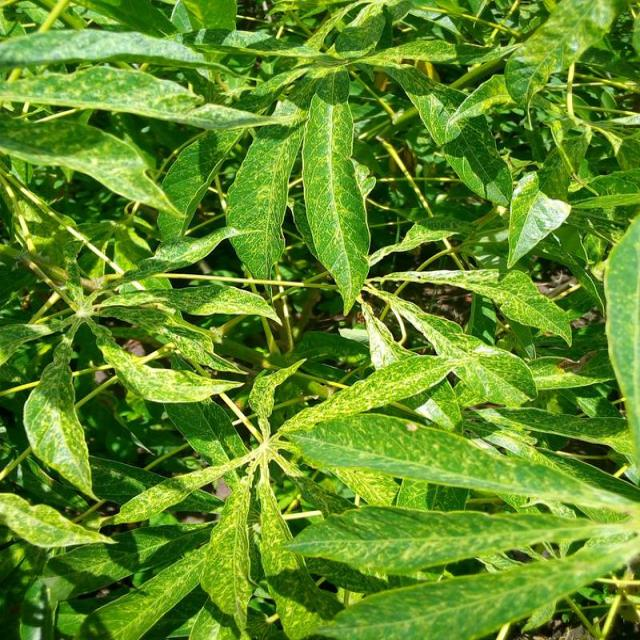Mosaico: (79, 0, 427, 207), (342, 304, 608, 574), (147, 408, 453, 604), (13, 237, 266, 456)
